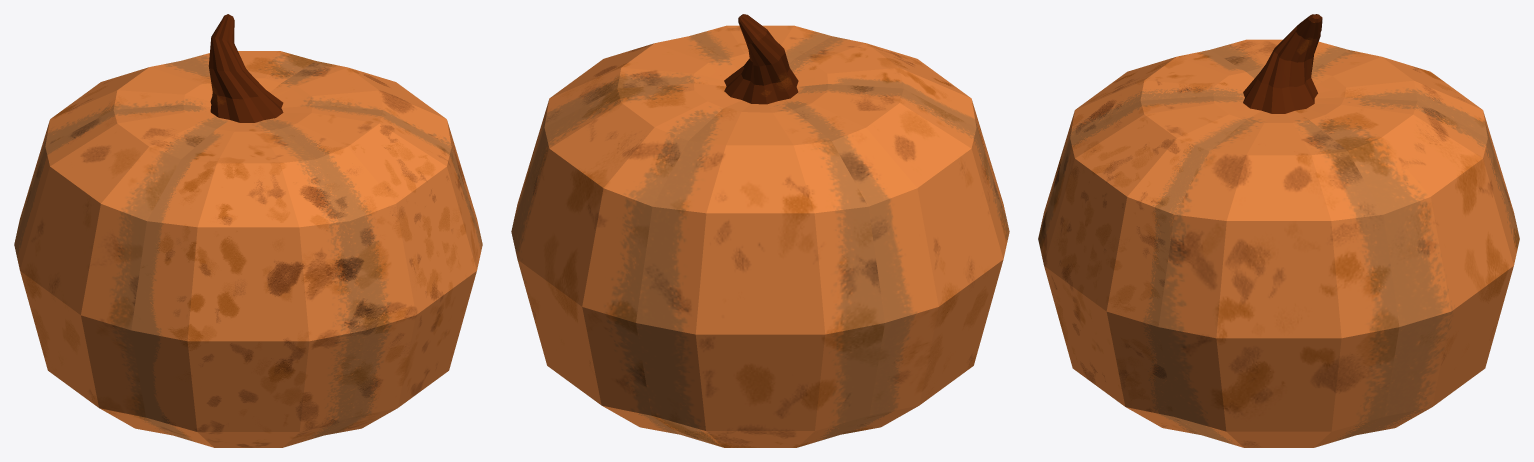
File: Pumpkin015.fbx
3 views of the same model, side by side, from view 1: azimuth 30°, elevation 25°; view 2: azimuth 150°, elevation 25°; view 3: azimuth 270°, elevation 25° (orthographic). The views are drawn at different scales.
Visible parts, largest first — view 1: Pumpkin0015; view 2: Pumpkin0015; view 3: Pumpkin0015.
Boxes of the visible parts, box(x1,y1,x2,y2) form: Pumpkin0015: box(14, 14, 482, 447); Pumpkin0015: box(511, 14, 1009, 447); Pumpkin0015: box(1038, 14, 1519, 447).
Bounding box in the file's own units: 35.09 × 30.93 × 35.94.
